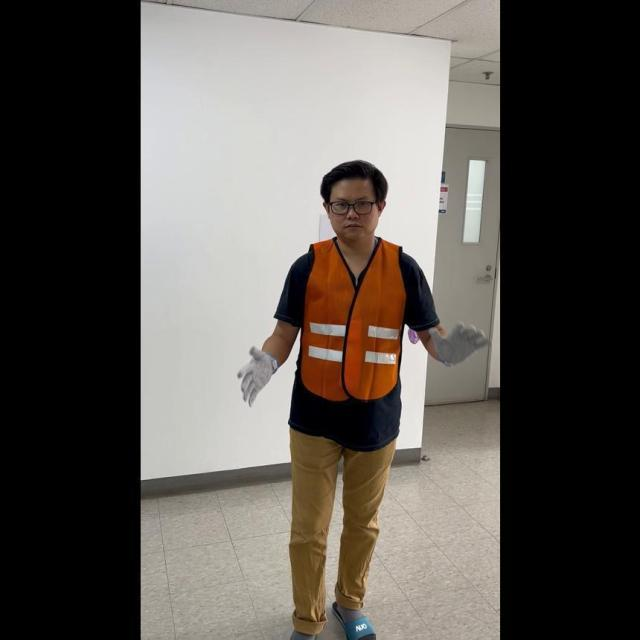gloved_hand: (423, 315, 484, 367), (235, 340, 278, 406)
